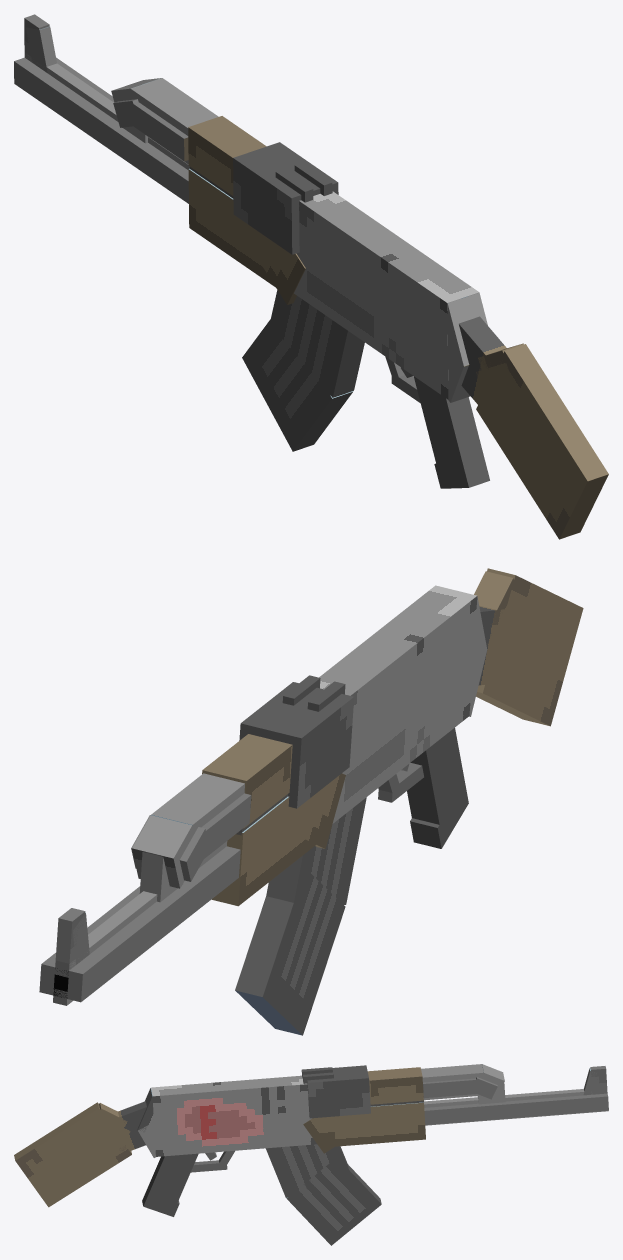
3 renders of one model, top to bottom at view 1: azimuth 30°, elevation 25°; view 2: azimuth 150°, elevation 25°; view 3: azimuth 270°, elevation 25°, orthographic. The views are drawn at different scales.
Visible parts, largest first — view 1: cube; view 2: cube; view 3: cube.
Boxes of the visible parts, x1=… form: cube: x1=14, y1=14, x2=608, y2=539; cube: x1=39, y1=568, x2=583, y2=1035; cube: x1=14, y1=1064, x2=608, y2=1245.
Size of the model in its own units: 0.555 by 1.52 by 4.84.
Materials: 1 (1 with a texture image).
